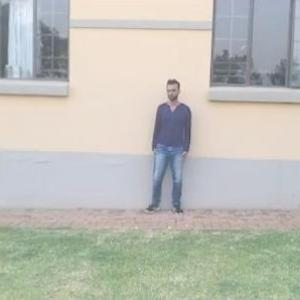follow: (152, 76, 192, 214)
